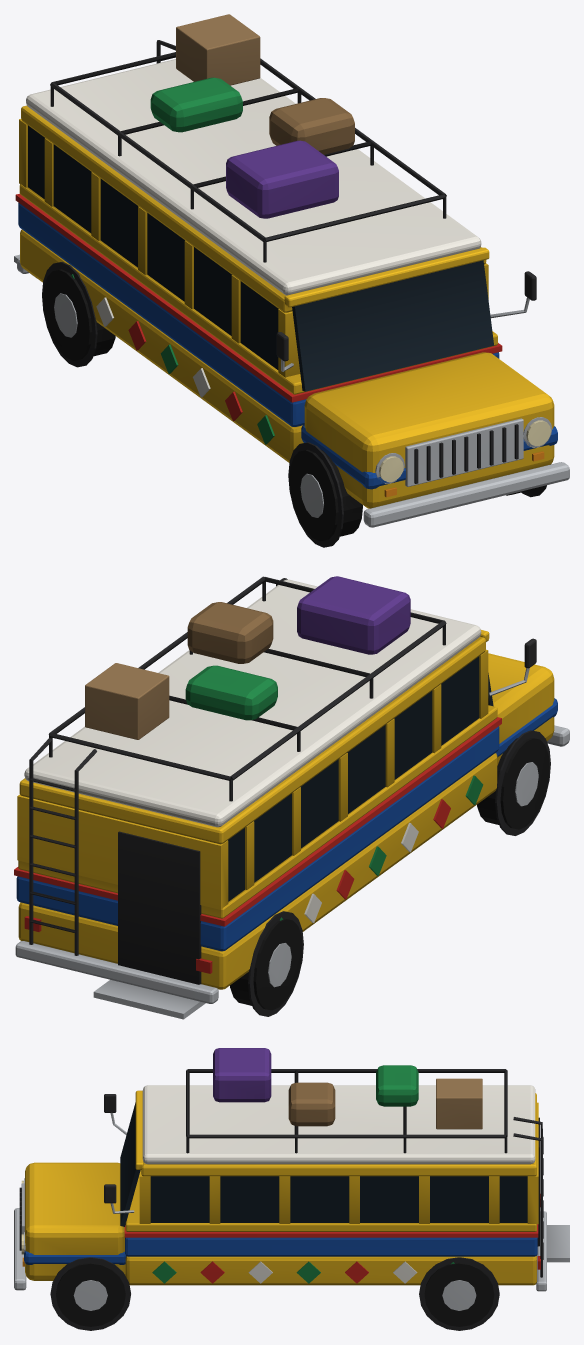
Rendered from car_rapide.glb.
The picture shows the model from 3 angles, top to bottom: view 1: azimuth 30°, elevation 25°; view 2: azimuth 150°, elevation 25°; view 3: azimuth 270°, elevation 25°; orthographic projection. The views are drawn at different scales.
Visible parts, largest first — view 1: CarRapide; view 2: CarRapide; view 3: CarRapide.
Boxes of the visible parts, x1,y1,x2,y2 form: CarRapide: (14, 14, 569, 547); CarRapide: (14, 576, 569, 1019); CarRapide: (14, 1048, 569, 1330).
Size of the model in its own units: 2.82 by 3.14 by 7.16.
